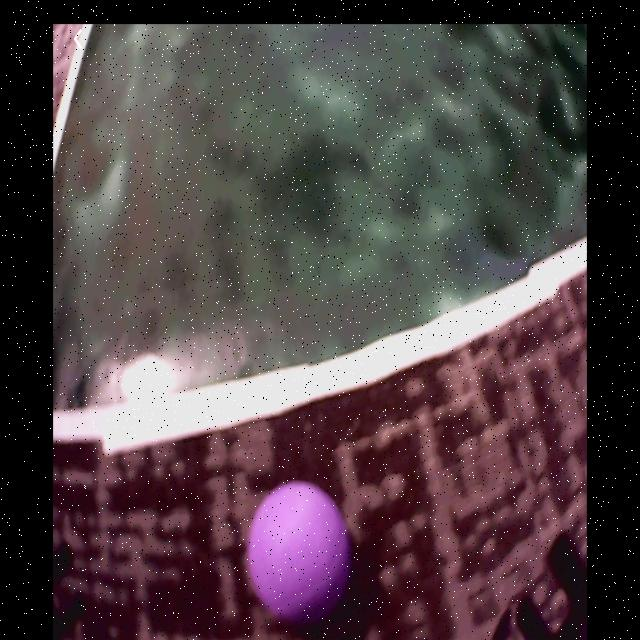ball: (246, 478, 354, 625)
